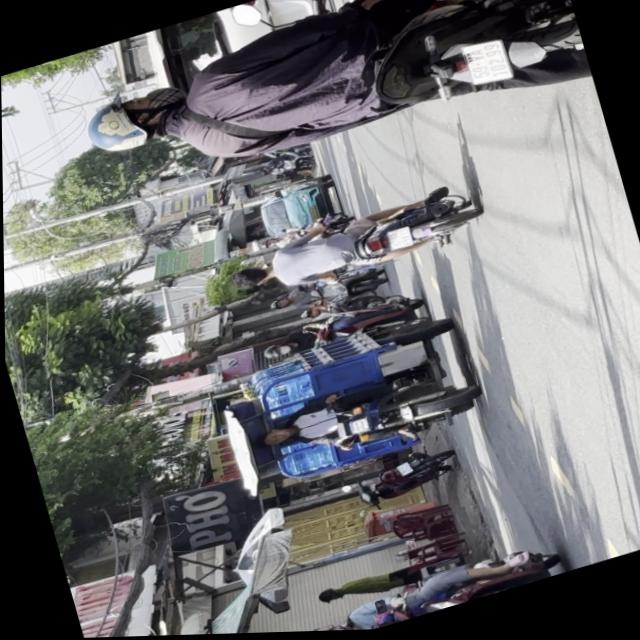helmet: (79, 82, 185, 161), (259, 341, 292, 363), (300, 620, 351, 633)
licenseplate: (60, 0, 592, 226), (210, 300, 497, 501), (221, 179, 487, 312), (292, 535, 572, 633)
motorcyclist: (229, 261, 274, 294), (252, 425, 291, 452), (334, 625, 375, 632)
nohelmet: (461, 40, 510, 90), (385, 227, 412, 252)
